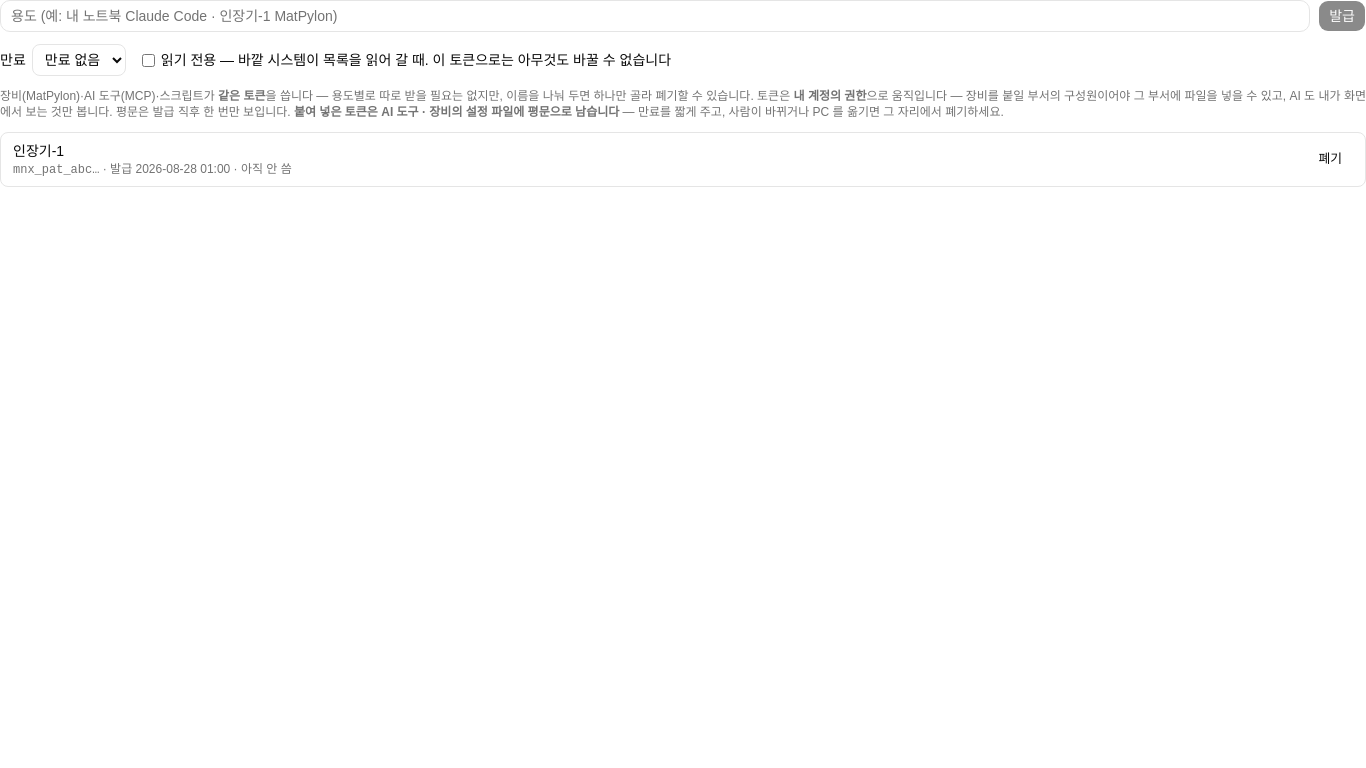
AccessTokens › 발급하면 평문을 한 번 보여 준다
The image size is (1366, 768).
Expected: the text "인장기-1" is shown, [13,143,64,159]
Type "새것" into the field named "토큰 이름".
click(655, 16); type("새것")  # box [0,0,1310,32]
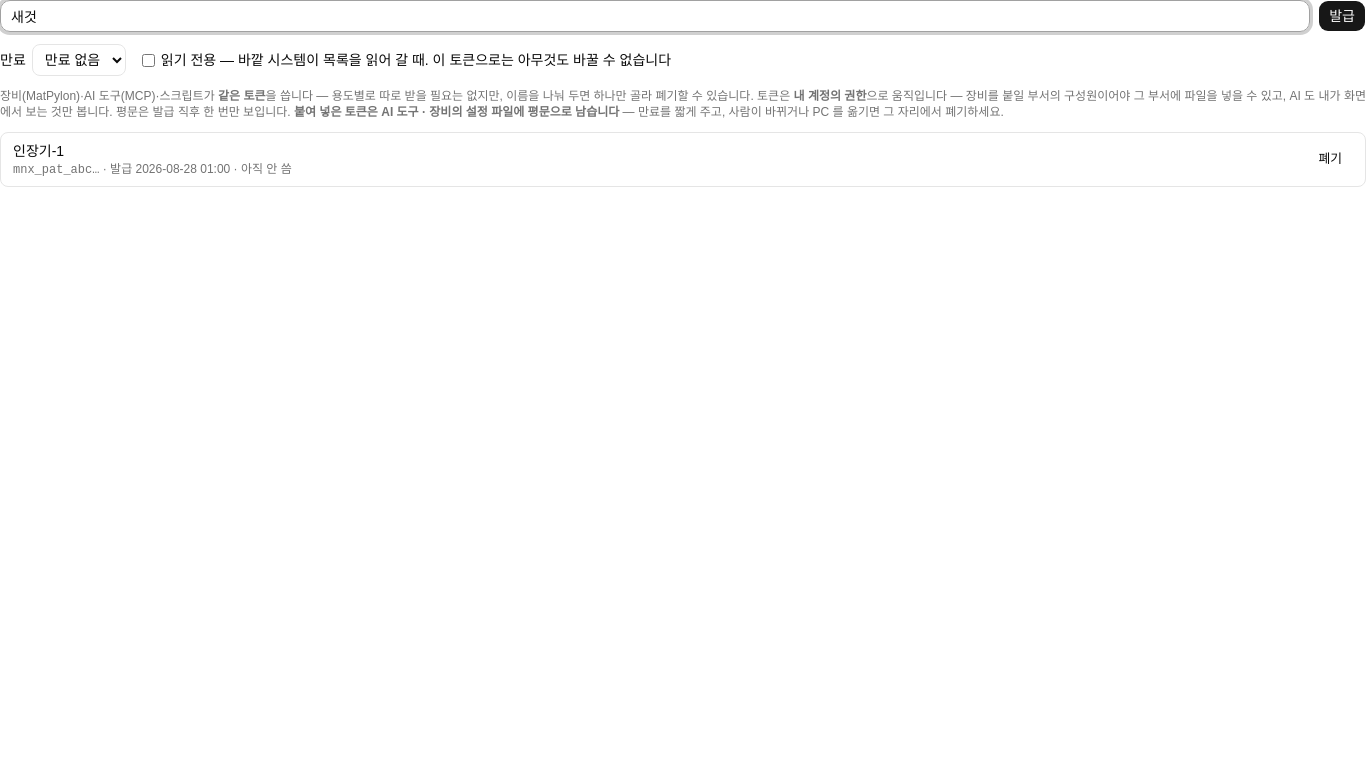
Click the button "발급".
click(1342, 16)  # box [1318,0,1365,32]
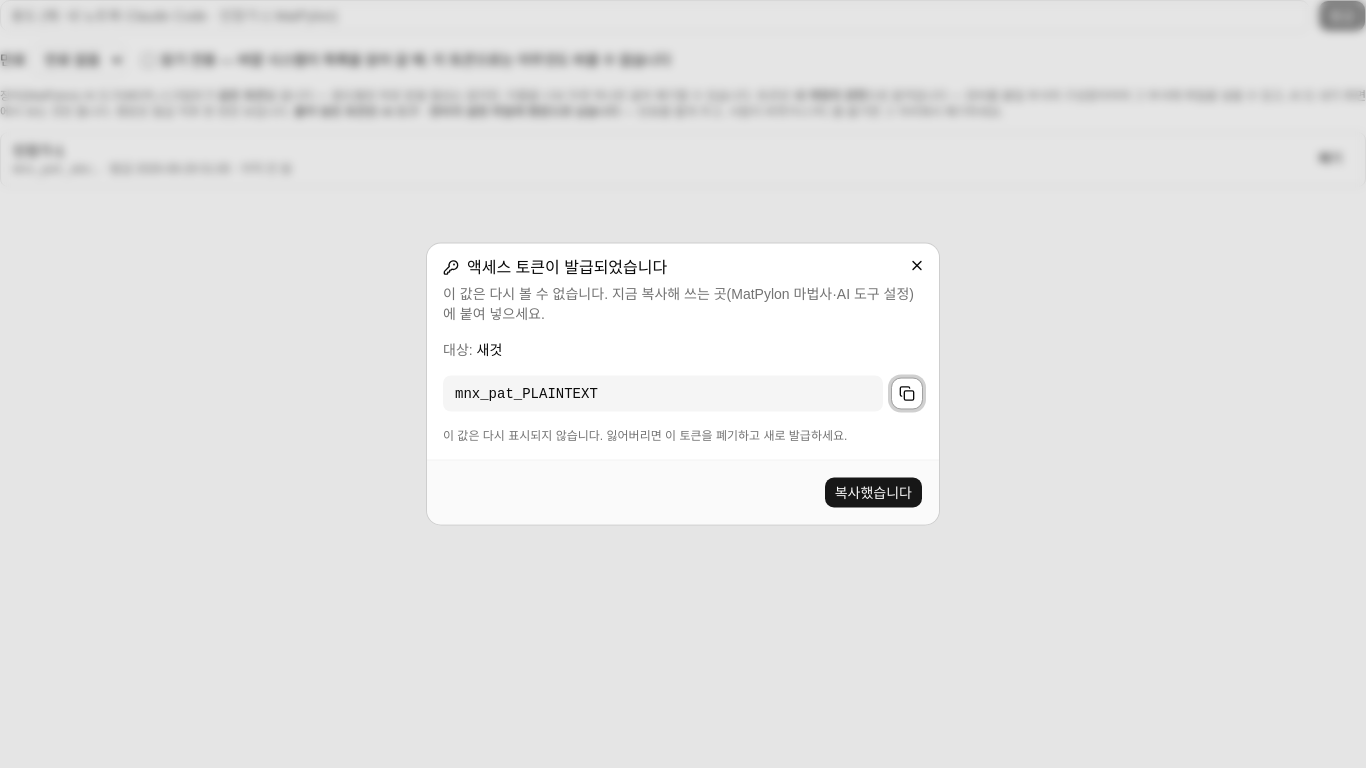
Expected: the text "mnx_pat_PLAINTEXT" is shown, [443,376,883,412]
